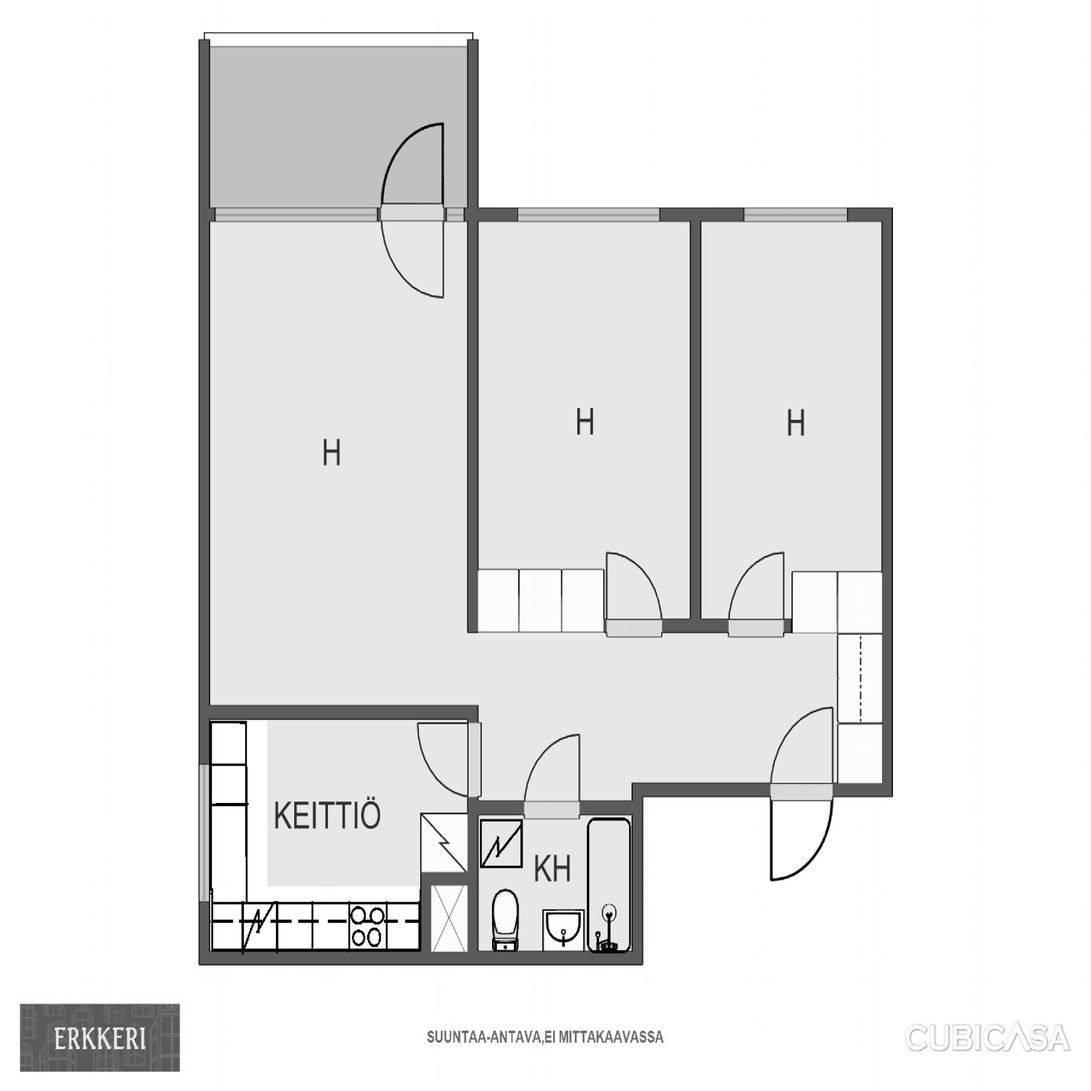wall: (199, 208, 893, 221), (199, 208, 209, 965), (199, 951, 643, 965), (883, 208, 893, 797), (690, 207, 701, 632), (199, 705, 479, 721), (468, 207, 478, 632), (633, 783, 893, 797), (604, 618, 793, 632), (468, 707, 478, 965), (468, 801, 643, 814), (633, 783, 643, 964), (199, 33, 209, 208), (468, 33, 478, 208)
